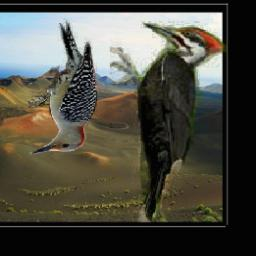Woodpecker: (109, 22, 226, 223), (26, 19, 96, 157)
